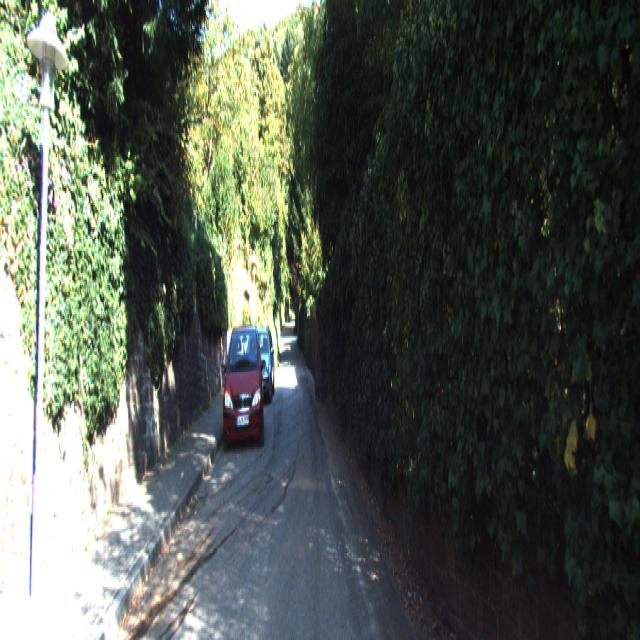Car: (220, 321, 264, 459), (243, 325, 275, 416)
